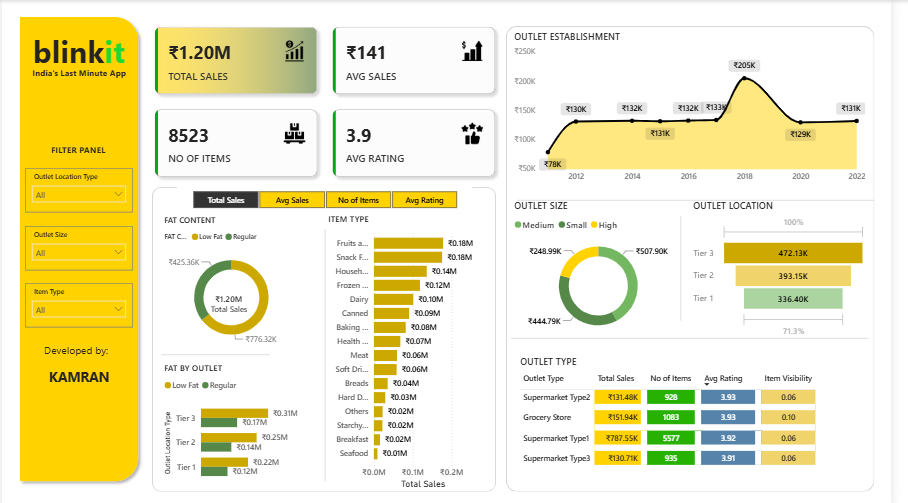

This screenshot's page, from the dashboard's own definition file:
{"tool":"powerbi","page":{"name":"Page 1","canvas":[1400,800],"ordinal":0},"visuals":[{"type":"shape","box":[18.3,16.7,205,750],"z":0},{"type":"textbox","box":[33.1,42.3,176.4,82.7],"z":1000},{"type":"textbox","box":[40.4,101,161.7,47.8],"z":2000},{"type":"cardVisual","fields":{"Data":["BlinkIT Grocery Data.Total Sales","BlinkIT Grocery Data.Avg Sales","BlinkIT Grocery Data.No of Items","BlinkIT Grocery Data.Avg Rating"]},"box":[223.3,25,570,270],"z":3000},{"type":"shape","box":[236.7,295,541.7,480],"z":4000},{"type":"slicer","fields":{"Values":["Metrics.Metrics"]},"box":[275,295,465,40],"z":5000},{"type":"clusteredBarChart","title":"FAT BY OUTLET","fields":{"Y":["BlinkIT Grocery Data.Total Sales"],"Category":["BlinkIT Grocery Data.Outlet Location Type"],"Series":["BlinkIT Grocery Data.Item Fat Content"]},"box":[250,570,220,201.7],"z":6000},{"type":"shape","box":[250,555,171.7,8.3],"z":7000},{"type":"shape","box":[501.7,360,13.3,396.7],"z":8000},{"type":"barChart","title":"ITEM TYPE","fields":{"Y":["BlinkIT Grocery Data.Total Sales"],"Category":["BlinkIT Grocery Data.Item Type"]},"box":[508.3,335,256.7,440],"z":9000},{"type":"shape","box":[793.3,41.7,580,733.3],"z":10000},{"type":"lineChart","title":"OUTLET ESTABLISHMENT","fields":{"Y":["BlinkIT Grocery Data.Total Sales"],"Category":["BlinkIT Grocery Data.Outlet Establishment Year"]},"box":[801.7,46.7,563.3,248.3],"z":11000},{"type":"shape","box":[801.7,523.3,563.3,20],"z":12000},{"type":"donutChart","title":"OUTLET SIZE","fields":{"Y":["BlinkIT Grocery Data.Total Sales"],"Category":["BlinkIT Grocery Data.Outlet Size"]},"box":[801.7,313.3,275,225],"z":13000},{"type":"shape","box":[1061.7,340,15,165],"z":14000},{"type":"funnel","title":"OUTLET LOCATION","fields":{"Y":["Sum(BlinkIT Grocery Data.Sales)"],"Category":["BlinkIT Grocery Data.Outlet Location Type"]},"box":[1083.3,313.3,281.7,221.7],"z":15000},{"type":"shape","box":[811.7,305,563.3,20],"z":16000},{"type":"pivotTable","title":"OUTLET TYPE","fields":{"Rows":["BlinkIT Grocery Data.Outlet Type"],"Values":["BlinkIT Grocery Data.Total Sales","BlinkIT Grocery Data.No of Items","BlinkIT Grocery Data.Avg Rating","Avg(BlinkIT Grocery Data.Item Visibility)"]},"box":[811.7,558.3,553.3,213.3],"z":17000},{"type":"donutChart","title":"FAT CONTENT","fields":{"Y":["BlinkIT Grocery Data.Total Sales"],"Category":["BlinkIT Grocery Data.Item Fat Content"]},"box":[250,336.7,221.7,218.3],"z":18000},{"type":"cardVisual","fields":{"Data":["BlinkIT Grocery Data.Total Sales"]},"box":[295,441.7,126.7,73.3],"z":19000},{"type":"slicer","fields":{"Values":["BlinkIT Grocery Data.Outlet Location Type"]},"box":[36.7,265,170,70],"z":20000},{"type":"slicer","fields":{"Values":["BlinkIT Grocery Data.Outlet Size"]},"box":[36.7,356.7,170,70],"z":21000},{"type":"slicer","fields":{"Values":["BlinkIT Grocery Data.Item Type"]},"box":[36.7,445,170,70],"z":22000},{"type":"textbox","box":[40,221.7,161.7,31.7],"z":23000},{"type":"textbox","box":[40,535,170,96.7],"z":24000}]}

Visuals, with their boxes on the page's 1400x800 design canvas (x1, y1, x2, y2). These are canvas units, not pixel positions in the 908x503 screenshot, which may show the page scaled, cropped or inside an application window:
shape: bbox(18, 17, 223, 767)
textbox: bbox(33, 42, 210, 125)
textbox: bbox(40, 101, 202, 149)
cardVisual - BlinkIT Grocery Data.Total Sales x BlinkIT Grocery Data.Avg Sales: bbox(223, 25, 793, 295)
shape: bbox(237, 295, 778, 775)
slicer - Metrics.Metrics: bbox(275, 295, 740, 335)
"FAT BY OUTLET" clusteredBarChart: bbox(250, 570, 470, 772)
shape: bbox(250, 555, 422, 563)
shape: bbox(502, 360, 515, 757)
"ITEM TYPE" barChart: bbox(508, 335, 765, 775)
shape: bbox(793, 42, 1373, 775)
"OUTLET ESTABLISHMENT" lineChart: bbox(802, 47, 1365, 295)
shape: bbox(802, 523, 1365, 543)
"OUTLET SIZE" donutChart: bbox(802, 313, 1077, 538)
shape: bbox(1062, 340, 1077, 505)
"OUTLET LOCATION" funnel: bbox(1083, 313, 1365, 535)
shape: bbox(812, 305, 1375, 325)
"OUTLET TYPE" pivotTable: bbox(812, 558, 1365, 772)
"FAT CONTENT" donutChart: bbox(250, 337, 472, 555)
cardVisual - BlinkIT Grocery Data.Total Sales: bbox(295, 442, 422, 515)
slicer - BlinkIT Grocery Data.Outlet Location Type: bbox(37, 265, 207, 335)
slicer - BlinkIT Grocery Data.Outlet Size: bbox(37, 357, 207, 427)
slicer - BlinkIT Grocery Data.Item Type: bbox(37, 445, 207, 515)
textbox: bbox(40, 222, 202, 253)
textbox: bbox(40, 535, 210, 632)
